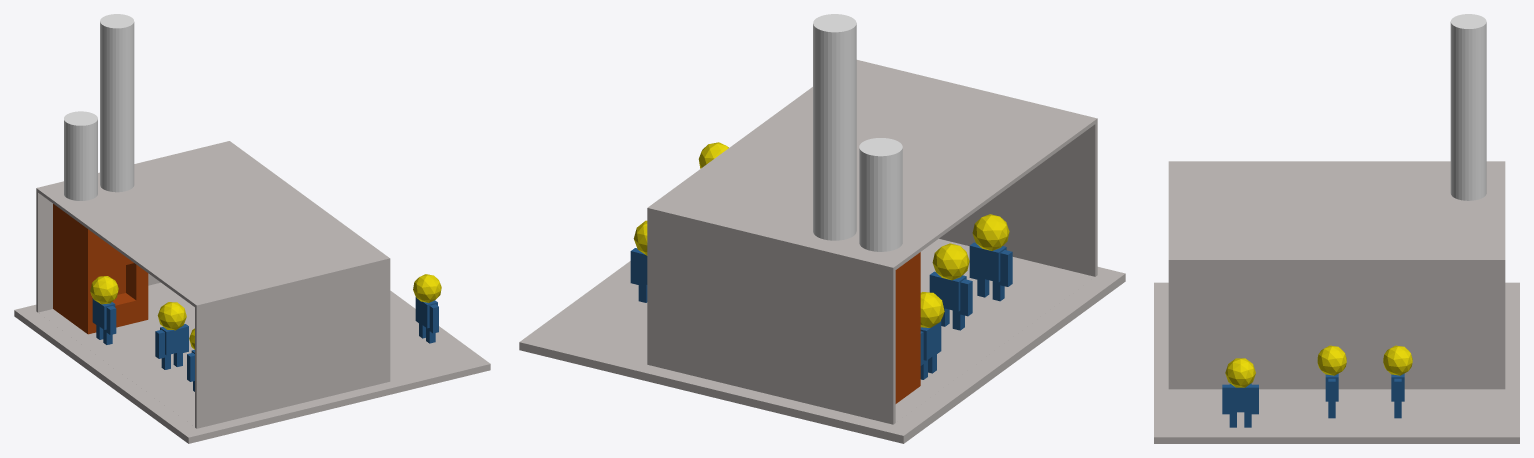
File: legacy.glb
The picture shows the model from 3 angles, left to right: view 1: azimuth 30°, elevation 25°; view 2: azimuth 150°, elevation 25°; view 3: azimuth 270°, elevation 25°; orthographic projection. The views are drawn at different scales.
Visible parts, largest first — view 1: Factory, Base, Furnace, Workers, Workers.001; view 2: Factory, Base, Workers, Furnace, Workers.001; view 3: Factory, Base, Workers.001.
Boxes of the visible parts, box(x1,y1,x2,y2) form: Factory: box(36, 14, 390, 428); Base: box(14, 290, 490, 443); Furnace: box(53, 204, 148, 334); Workers: box(90, 276, 194, 391); Workers.001: box(413, 274, 441, 343); Factory: box(647, 14, 1097, 424); Base: box(519, 261, 1125, 443); Workers: box(920, 214, 1012, 379); Furnace: box(895, 252, 920, 403); Workers.001: box(630, 142, 728, 302); Factory: box(1168, 14, 1505, 389); Base: box(1154, 282, 1519, 443); Workers.001: box(1222, 345, 1412, 427).
Bounding box in the file's own units: 10 × 9.29 × 10.
